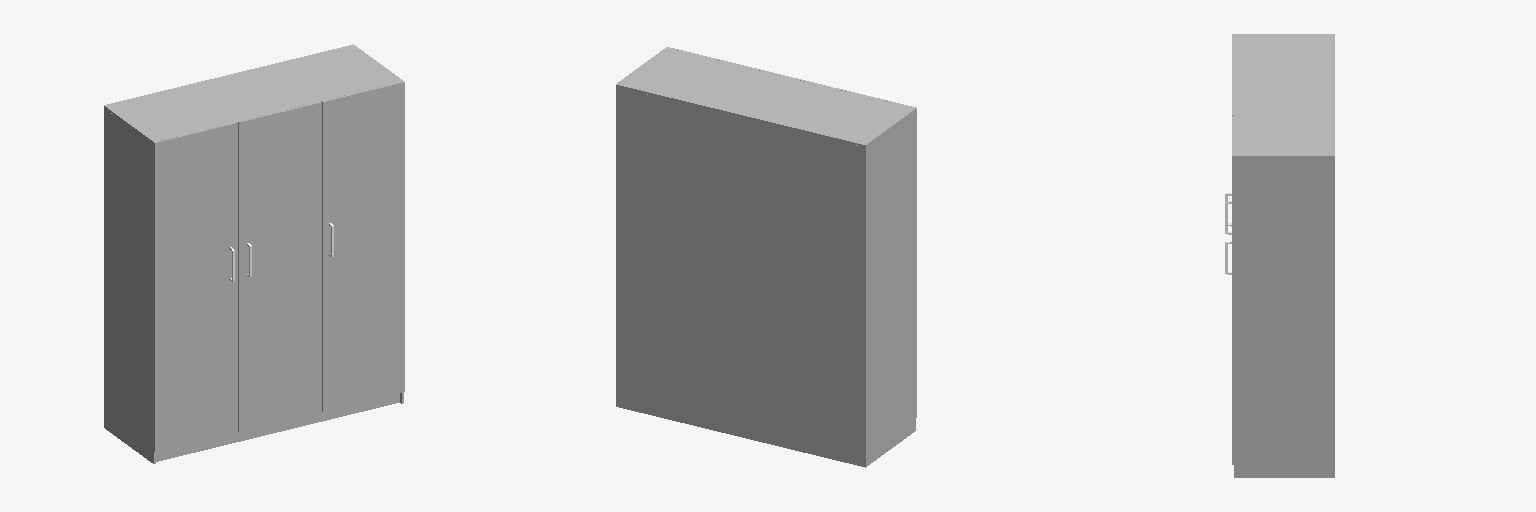
Rendered from HAGENDRUP1.obj.
The picture shows the model from 3 angles: view 1: azimuth 30°, elevation 25°; view 2: azimuth 150°, elevation 25°; view 3: azimuth 270°, elevation 25°; orthographic projection.
Visible parts, largest first — view 1: Куб.006; view 2: Куб.006; view 3: Куб.006.
Boxes of the visible parts, x1=… form: Куб.006: x1=104, y1=44, x2=404, y2=463; Куб.006: x1=616, y1=47, x2=916, y2=467; Куб.006: x1=1232, y1=34, x2=1334, y2=477.
Bounding box in the file's own units: 2.88 × 3.55 × 1.09.